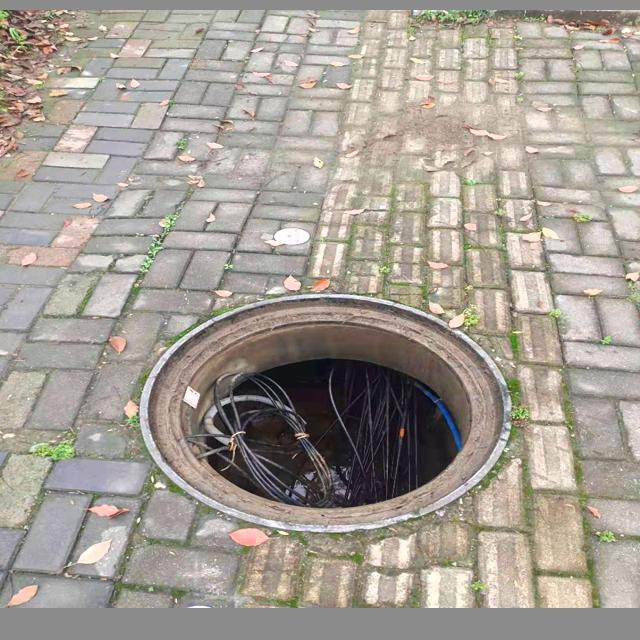lose: (139, 292, 509, 535)
